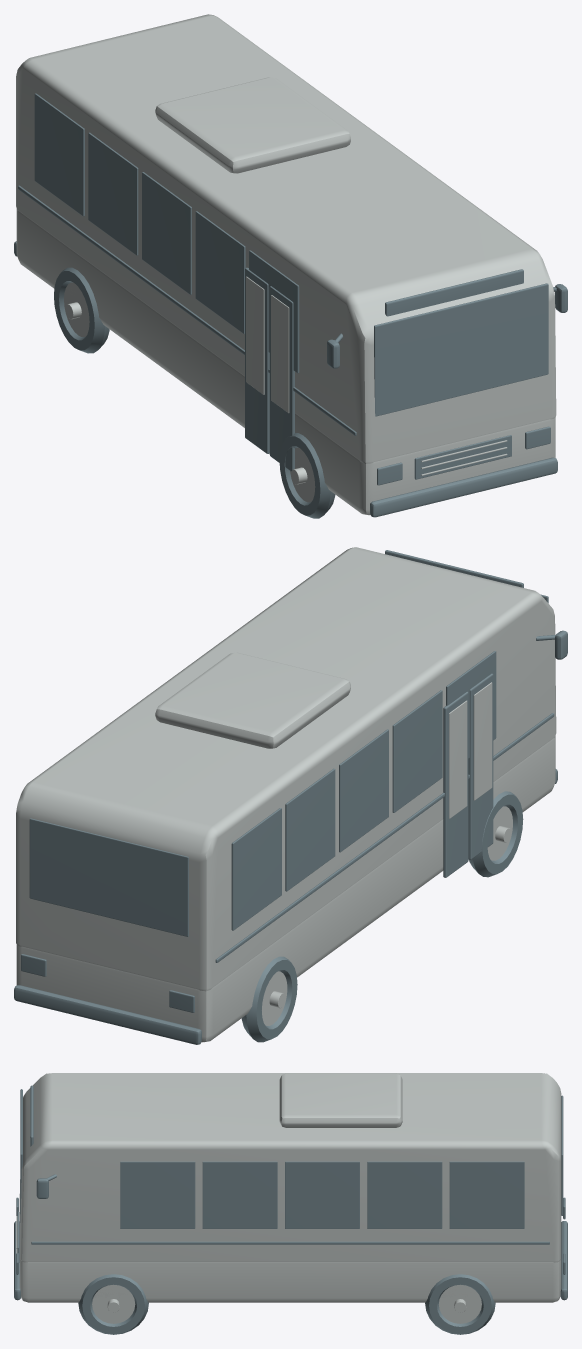
Rendered from bus.glb.
The picture shows the model from 3 angles, top to bottom: view 1: azimuth 30°, elevation 25°; view 2: azimuth 150°, elevation 25°; view 3: azimuth 270°, elevation 25°; orthographic projection. The views are drawn at different scales.
Parts seen in each view (by area): view 1: upper_body, lower_body, windscreen, roof_air_unit, side_window, side_window.001, side_window.003, side_window.002, bumper, passenger_door, passenger_door.001, bus_wheel_tire (+9 smaller); view 2: upper_body, lower_body, rear_window, roof_air_unit, side_window.001, side_window.003, side_window, side_window.002, bumper.001, passenger_door, passenger_door.001, bus_wheel_tire (+8 smaller); view 3: upper_body, lower_body, roof_air_unit, side_window.006, side_window.009, side_window.005, side_window.008, side_window.007, belt_line.001, bus_wheel_tire.003, bus_wheel_tire.002, bus_wheel_wheel_face.003 (+4 smaller).
Boxes of the visible parts, x1,y1,x2,y2 form: upper_body: (16, 14, 556, 463); lower_body: (16, 209, 555, 515); windscreen: (374, 283, 548, 416); roof_air_unit: (155, 77, 350, 173); side_window: (34, 93, 84, 216); side_window.001: (88, 132, 138, 255); side_window.003: (195, 211, 245, 333); side_window.002: (142, 172, 191, 294); bumper: (370, 457, 557, 517); passenger_door: (245, 267, 269, 453); passenger_door.001: (269, 286, 294, 471); bus_wheel_tire: (54, 267, 109, 353); upper_body: (16, 547, 556, 991); lower_body: (16, 736, 555, 1042); rear_window: (29, 818, 188, 936); roof_air_unit: (155, 652, 350, 748); side_window.001: (285, 768, 335, 891); side_window.003: (392, 690, 442, 812); side_window: (231, 808, 281, 930); side_window.002: (339, 729, 388, 852); bumper.001: (14, 985, 201, 1044); passenger_door: (443, 691, 468, 877); passenger_door.001: (468, 673, 493, 859); bus_wheel_tire: (241, 956, 297, 1042); upper_body: (20, 1073, 561, 1262); lower_body: (19, 1194, 561, 1302); roof_air_unit: (279, 1073, 402, 1127); side_window.006: (367, 1161, 442, 1228); side_window.009: (120, 1161, 195, 1228); side_window.005: (449, 1161, 524, 1228); side_window.008: (202, 1161, 277, 1228); side_window.007: (285, 1161, 359, 1228); belt_line.001: (31, 1241, 549, 1244); bus_wheel_tire.003: (78, 1274, 148, 1334); bus_wheel_tire.002: (425, 1274, 495, 1334); bus_wheel_wheel_face.003: (92, 1284, 135, 1323).
Bounding box in the file's own units: 2.9 × 3.14 × 7.67.
